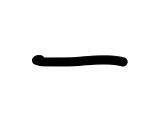minus: (31, 55, 129, 67)
